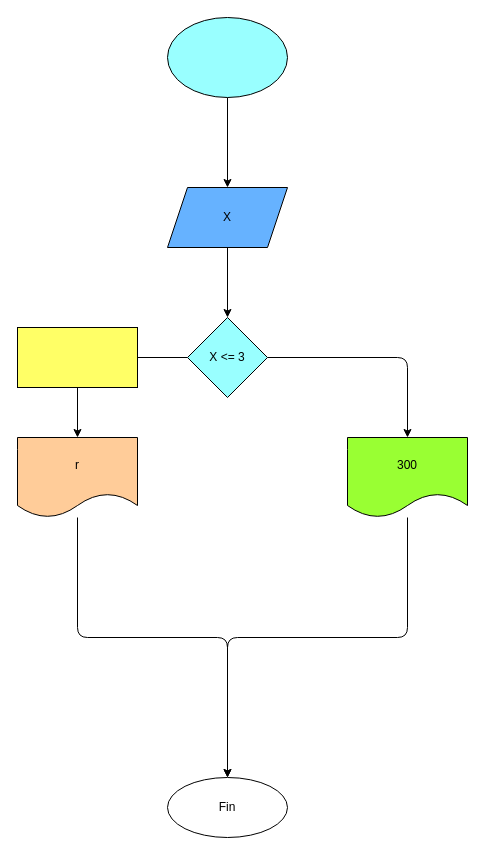
This 485x855 diagram has some shape labels left out. Each missing label, with the box of its shape:
Inicio: (166, 16, 288, 98)
r= 300+(50*(X-3): (16, 326, 138, 388)
